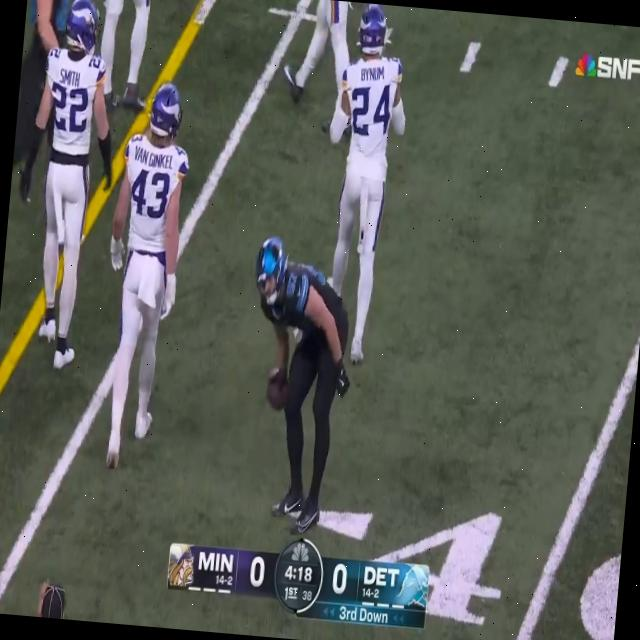Player: (95, 67, 196, 474), (232, 238, 362, 525), (17, 0, 117, 372), (311, 1, 405, 347)
